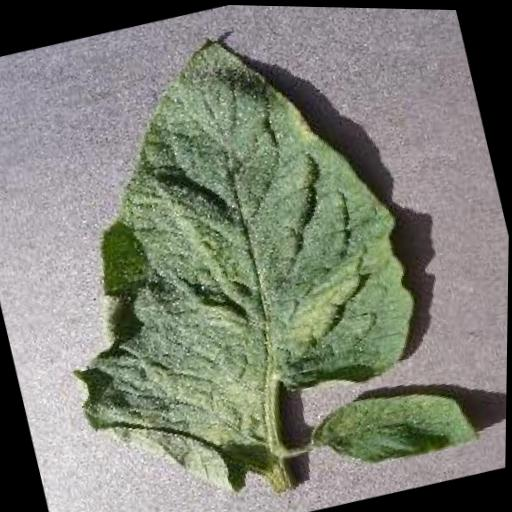Spider Mites: (4, 0, 450, 512)
